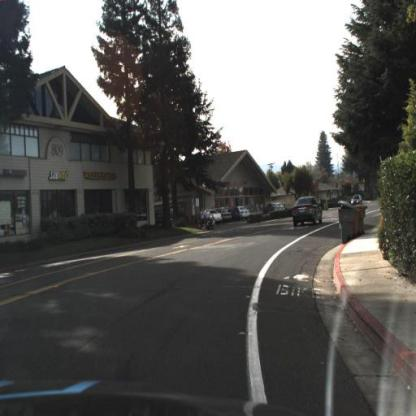car: (288, 196, 329, 231), (234, 204, 252, 220), (220, 209, 235, 225), (209, 208, 224, 222)
pedestrian: (198, 207, 207, 228), (206, 207, 211, 234)
